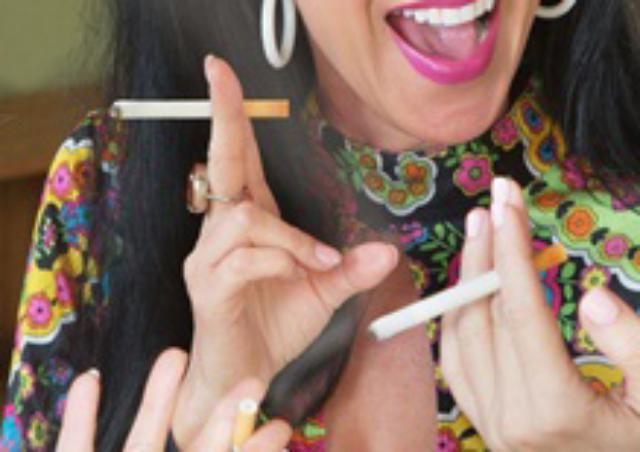Smoking: (363, 243, 567, 336), (108, 94, 290, 120)
